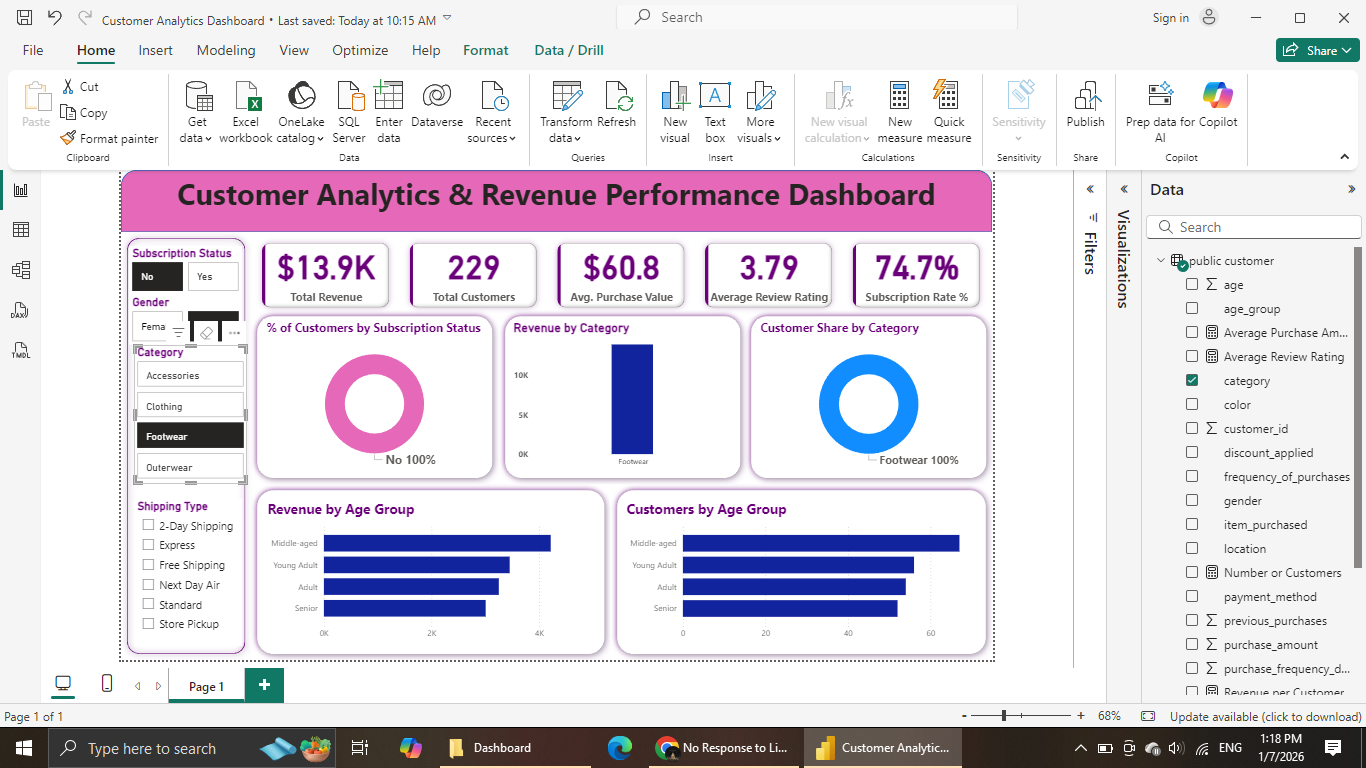

The page's visual inventory and layout, read from the dashboard file:
{"tool":"powerbi","page":{"name":"Page 1","canvas":[1280,720],"ordinal":0},"visuals":[{"type":"cardVisual","fields":{"Data":["public customer.Total Revenue","public customer.Number or Customers","public customer.Average Purchase Amount","public customer.Average Review Rating","public customer.Subscription Rate %"]},"box":[191,91.1,1088.8,127.8],"z":0},{"type":"shape","box":[0,0,1280,91.3],"z":1000},{"type":"textbox","box":[0,0,1279.8,77.9],"z":2000},{"type":"shape","box":[191.6,205.1,363.8,256],"z":3000},{"type":"donutChart","title":"% of Customers by Subscription Status","fields":{"Y":["CountNonNull(public customer.customer_id)"],"Category":["public customer.subscription_status"]},"box":[208.7,218.9,327.7,226.3],"z":4000},{"type":"shape","box":[191.6,461.1,528.5,259],"z":5000},{"type":"shape","box":[916.2,205.1,363.8,256],"z":6000},{"type":"shape","box":[555.4,205.1,363.8,256],"z":7000},{"type":"shape","box":[720.1,461.1,559.9,259],"z":8000},{"type":"clusteredColumnChart","title":"Revenue by Category","fields":{"Y":["Sum(public customer.purchase_amount)"],"Category":["public customer.category"]},"box":[571.9,220.1,330.9,226.1],"z":9000},{"type":"donutChart","title":"Customer Share by Category","fields":{"Category":["public customer.category"],"Y":["public customer.Revenue per Customer"]},"box":[935,219.4,328.3,227],"z":10000},{"type":"shape","box":[0,91.3,191.6,628.8],"z":11000},{"type":"advancedSlicerVisual","fields":{"Values":["public customer.subscription_status"]},"box":[12,112.3,166.2,71.9],"z":12000},{"type":"advancedSlicerVisual","fields":{"Values":["public customer.gender"]},"box":[12,184.1,166.2,73.4],"z":13000},{"type":"advancedSlicerVisual","fields":{"Values":["public customer.category"]},"box":[19.1,257.1,166,204.2],"z":14000},{"type":"slicer","title":"Shipping Type","fields":{"Values":["public customer.shipping_type"]},"box":[19.5,483.6,158.7,215.6],"z":15000},{"type":"clusteredBarChart","title":"Revenue by Age Group","fields":{"Y":["Sum(public customer.purchase_amount)"],"Category":["public customer.age_group"]},"box":[209.6,483.6,495.5,215.6],"z":16000},{"type":"clusteredBarChart","title":"Customers by Age Group","fields":{"Y":["CountNonNull(public customer.customer_id)"],"Category":["public customer.age_group"]},"box":[737.6,483.4,524.6,216],"z":17000}]}

Visuals, with their boxes on the page's 1280x720 design canvas (x1, y1, x2, y2). These are canvas units, not pixel positions in the 1366x768 screenshot, which may show the page scaled, cropped or inside an application window:
cardVisual - public customer.Total Revenue x public customer.Number or Customers: x1=191, y1=91, x2=1280, y2=219
shape: x1=0, y1=0, x2=1280, y2=91
textbox: x1=0, y1=0, x2=1280, y2=78
shape: x1=192, y1=205, x2=555, y2=461
"% of Customers by Subscription Status" donutChart: x1=209, y1=219, x2=536, y2=445
shape: x1=192, y1=461, x2=720, y2=720
shape: x1=916, y1=205, x2=1280, y2=461
shape: x1=555, y1=205, x2=919, y2=461
shape: x1=720, y1=461, x2=1280, y2=720
"Revenue by Category" clusteredColumnChart: x1=572, y1=220, x2=903, y2=446
"Customer Share by Category" donutChart: x1=935, y1=219, x2=1263, y2=446
shape: x1=0, y1=91, x2=192, y2=720
advancedSlicerVisual - public customer.subscription_status: x1=12, y1=112, x2=178, y2=184
advancedSlicerVisual - public customer.gender: x1=12, y1=184, x2=178, y2=258
advancedSlicerVisual - public customer.category: x1=19, y1=257, x2=185, y2=461
"Shipping Type" slicer: x1=20, y1=484, x2=178, y2=699
"Revenue by Age Group" clusteredBarChart: x1=210, y1=484, x2=705, y2=699
"Customers by Age Group" clusteredBarChart: x1=738, y1=483, x2=1262, y2=699
